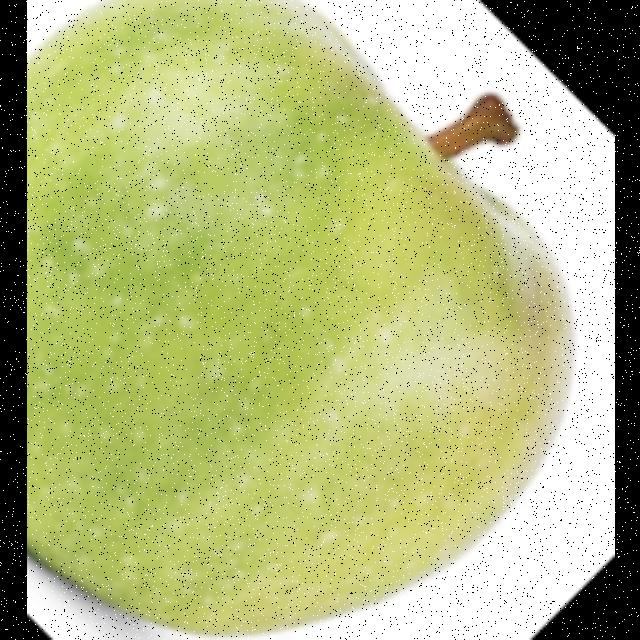Apel Segar: (26, 0, 598, 640)
